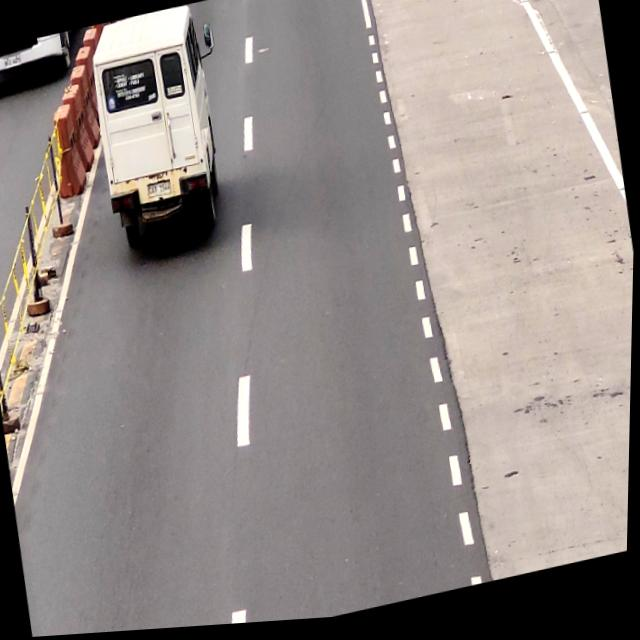Car: (80, 4, 232, 255)
License-Plate: (145, 179, 174, 202)
